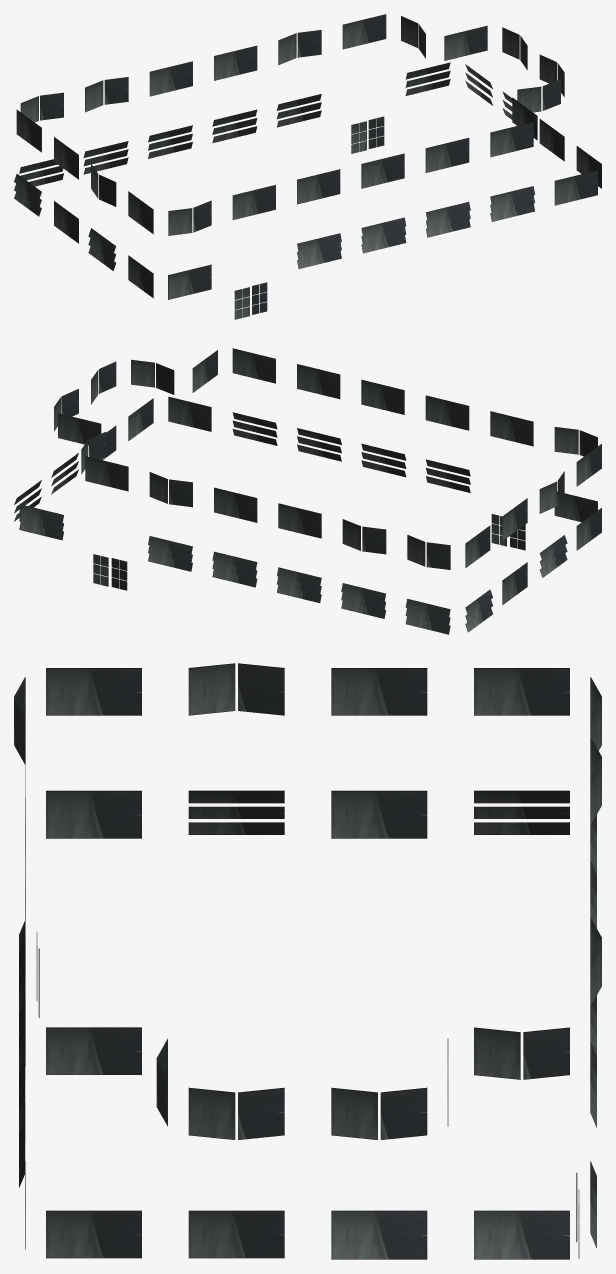
The model's file is TRANS_Building_2Stores_StockOffice.obj.
3 views of the same model, one above another, from view 1: azimuth 30°, elevation 25°; view 2: azimuth 150°, elevation 25°; view 3: azimuth 270°, elevation 25° (orthographic). The views are drawn at different scales.
Parts seen in each view (by area): view 1: TRANS_Building_2Stores_StockOffice; view 2: TRANS_Building_2Stores_StockOffice; view 3: TRANS_Building_2Stores_StockOffice.
Boxes of the visible parts, x1,y1,x2,y2 form: TRANS_Building_2Stores_StockOffice: (14, 14, 601, 319); TRANS_Building_2Stores_StockOffice: (14, 348, 601, 634); TRANS_Building_2Stores_StockOffice: (14, 663, 601, 1259).
Size of the model in its own units: 9.35 by 2.49 by 5.41.
